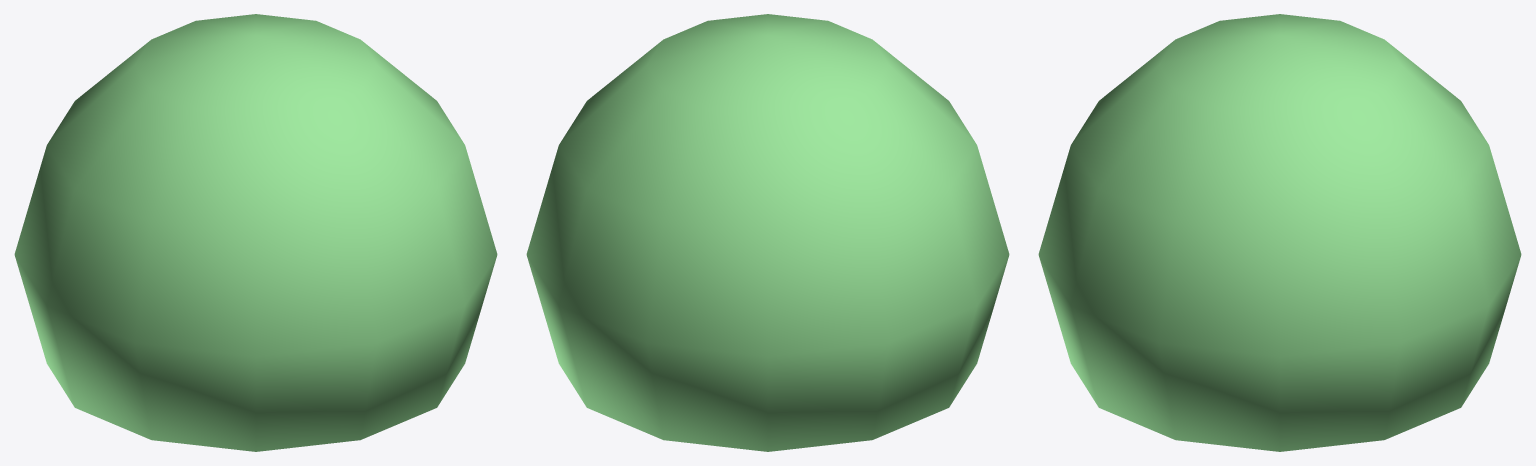
Rendered from Chocolate Truffle.obj.
3 views of the same model, side by side, from view 1: azimuth 30°, elevation 25°; view 2: azimuth 150°, elevation 25°; view 3: azimuth 270°, elevation 25° (orthographic).
Parts seen in each view (by area): view 1: Chocolate_Truffle; view 2: Chocolate_Truffle; view 3: Chocolate_Truffle.
Boxes of the visible parts, box(x1,y1,x2,y2) form: Chocolate_Truffle: box(14, 14, 497, 451); Chocolate_Truffle: box(526, 14, 1009, 451); Chocolate_Truffle: box(1038, 14, 1521, 451).
Bounding box in the file's own units: 6.98 × 5.23 × 6.98.
